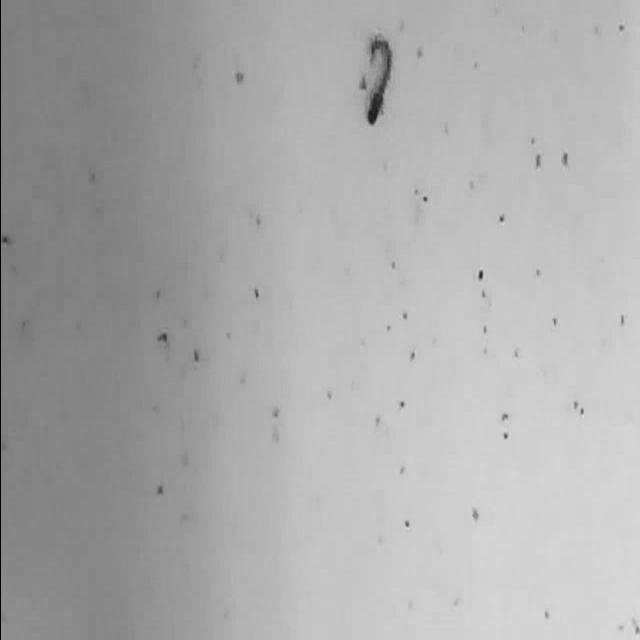larvas: (366, 36, 394, 124)
